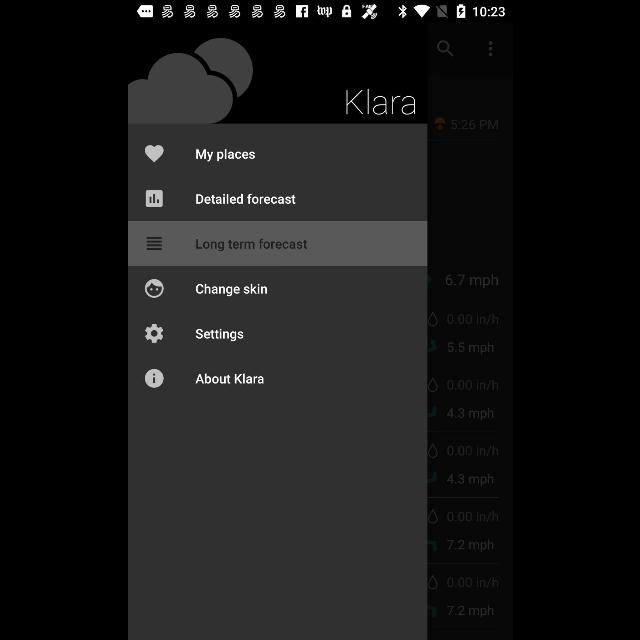icon: (144, 368, 164, 388), (145, 324, 163, 344), (144, 190, 162, 208), (144, 145, 162, 163), (146, 237, 162, 251)
image: (144, 280, 164, 298)
panel: (128, 22, 426, 640)
text: (346, 89, 414, 115), (196, 238, 306, 252), (196, 193, 294, 204), (195, 284, 267, 296), (196, 148, 254, 162), (195, 374, 263, 384), (195, 328, 243, 342)
uppertaskbar: (128, 1, 512, 23)
